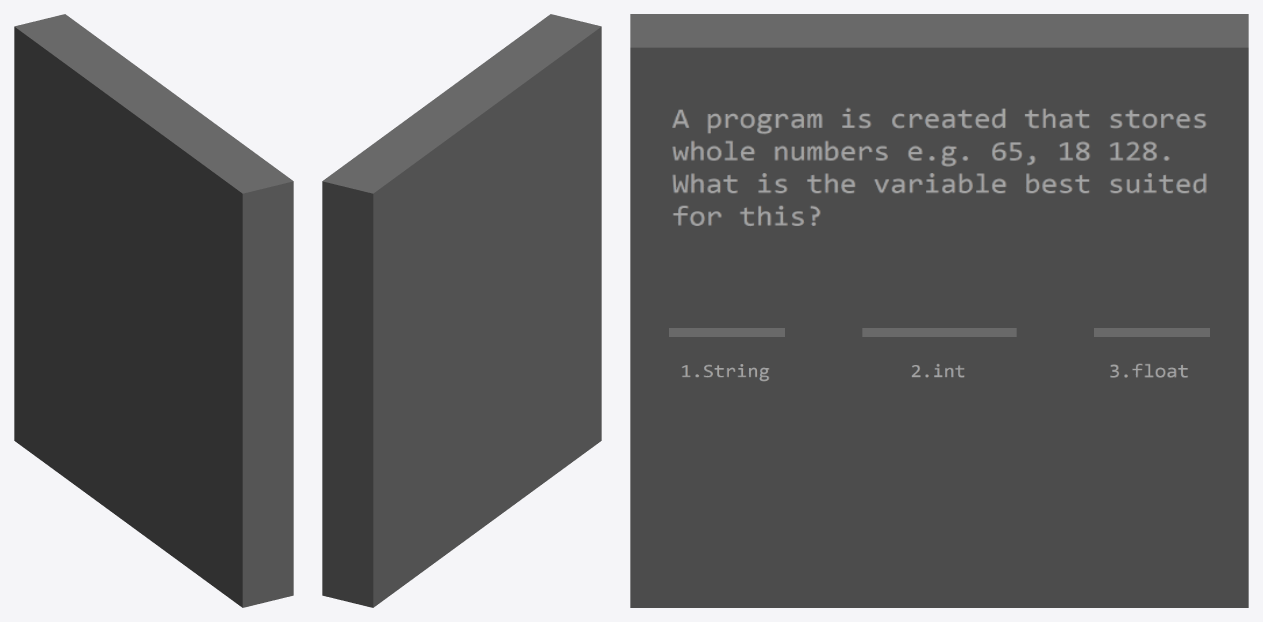
The model's file is Button_Puzzle-lvl1.fbx.
3 renders of one model, left to right at view 1: azimuth 30°, elevation 25°; view 2: azimuth 150°, elevation 25°; view 3: azimuth 270°, elevation 25°, orthographic. The views are drawn at different scales.
Parts seen in each view (by area): view 1: Cube; view 2: Cube; view 3: Cube.
Part boxes in pixels (bbox=[...]): Cube: bbox=[14, 14, 293, 607]; Cube: bbox=[322, 14, 601, 607]; Cube: bbox=[630, 14, 1248, 607].
Size of the model in its own units: 32.77 by 200 by 200.
